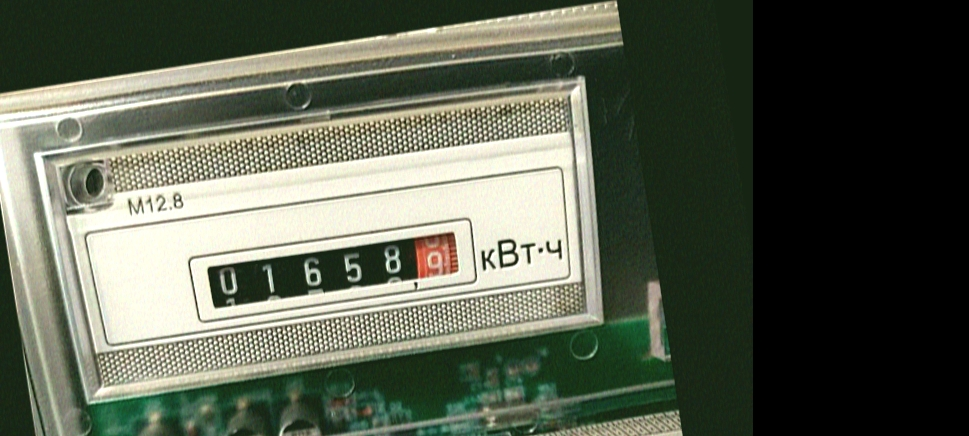0: (216, 263, 240, 296)
1: (259, 260, 280, 295)
5: (340, 249, 365, 283)
6: (300, 253, 325, 288)
8: (380, 241, 405, 275)
9: (422, 248, 447, 279)
screen: (177, 205, 486, 332)
